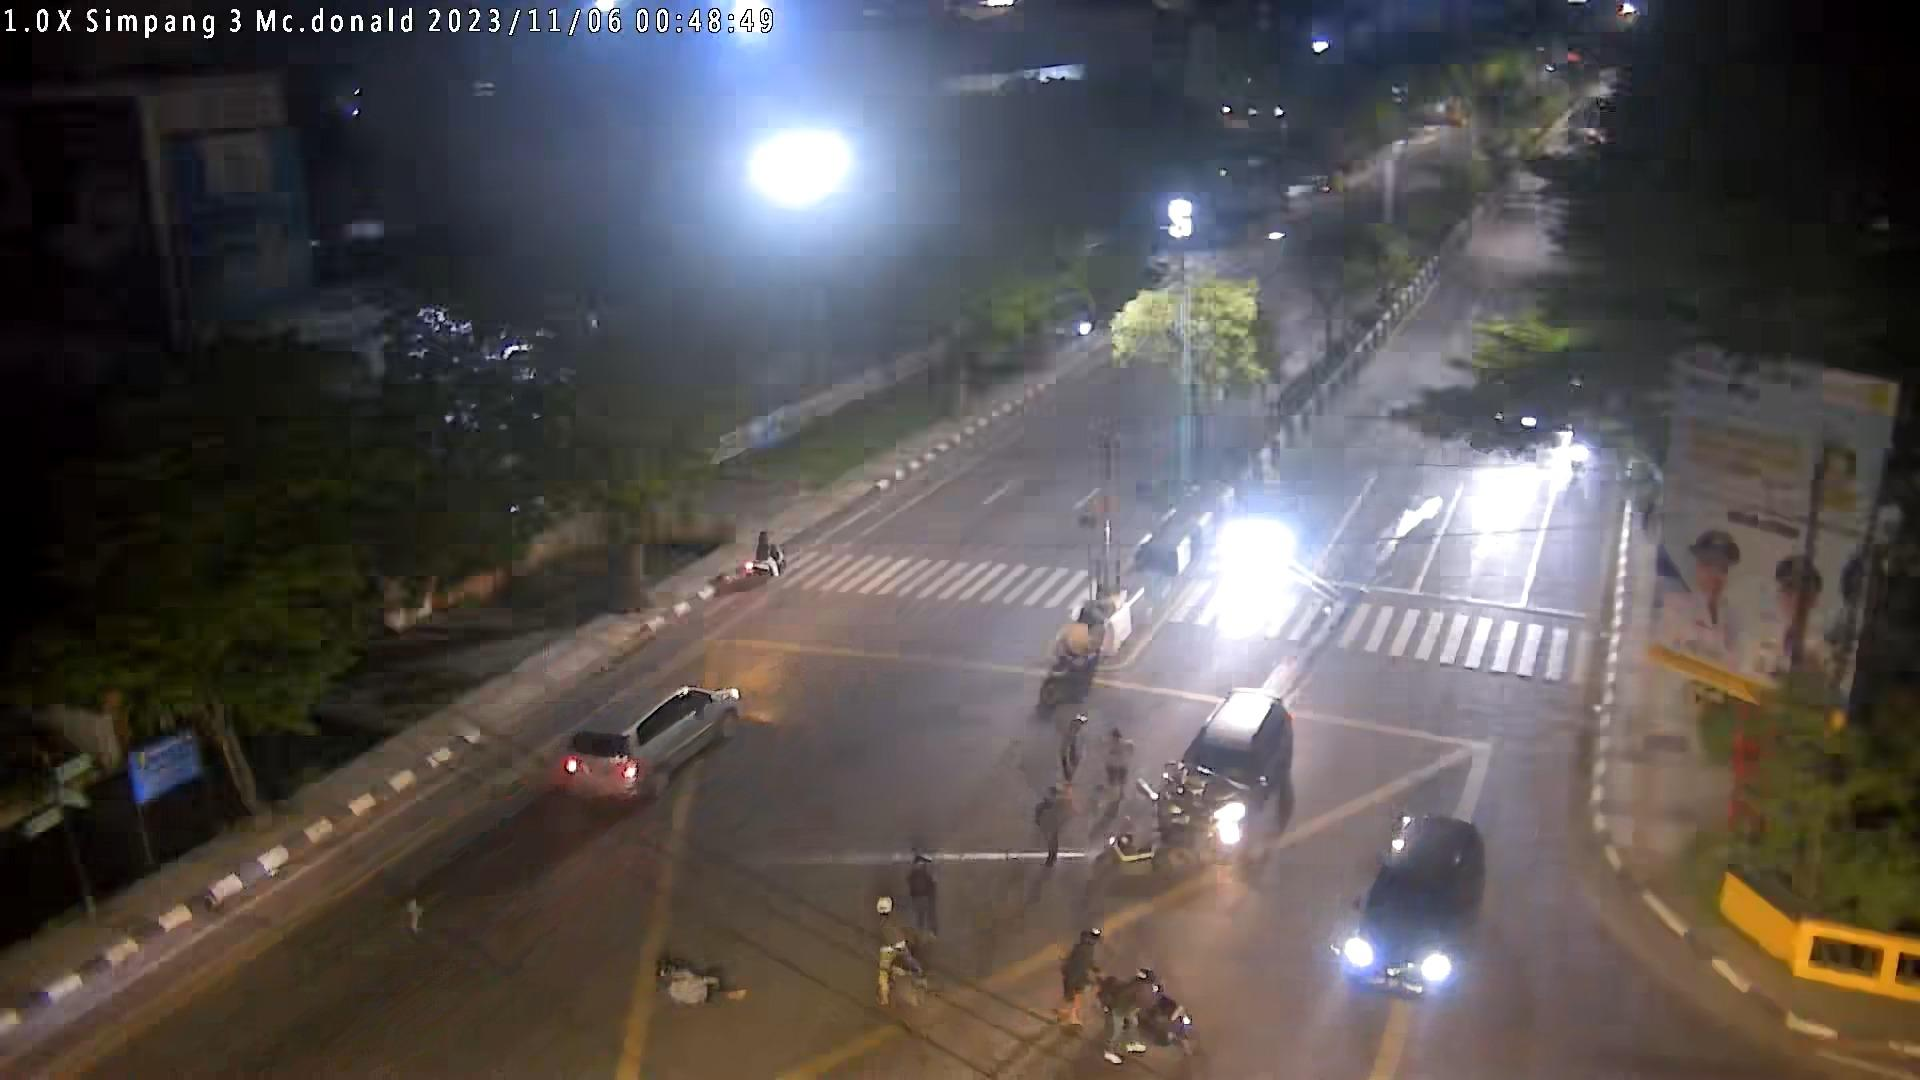accident: (654, 952, 746, 1013)
